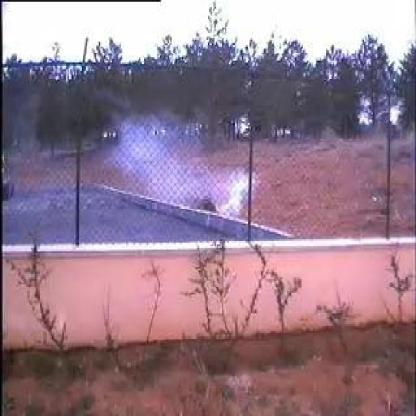-: (67, 106, 250, 237)
